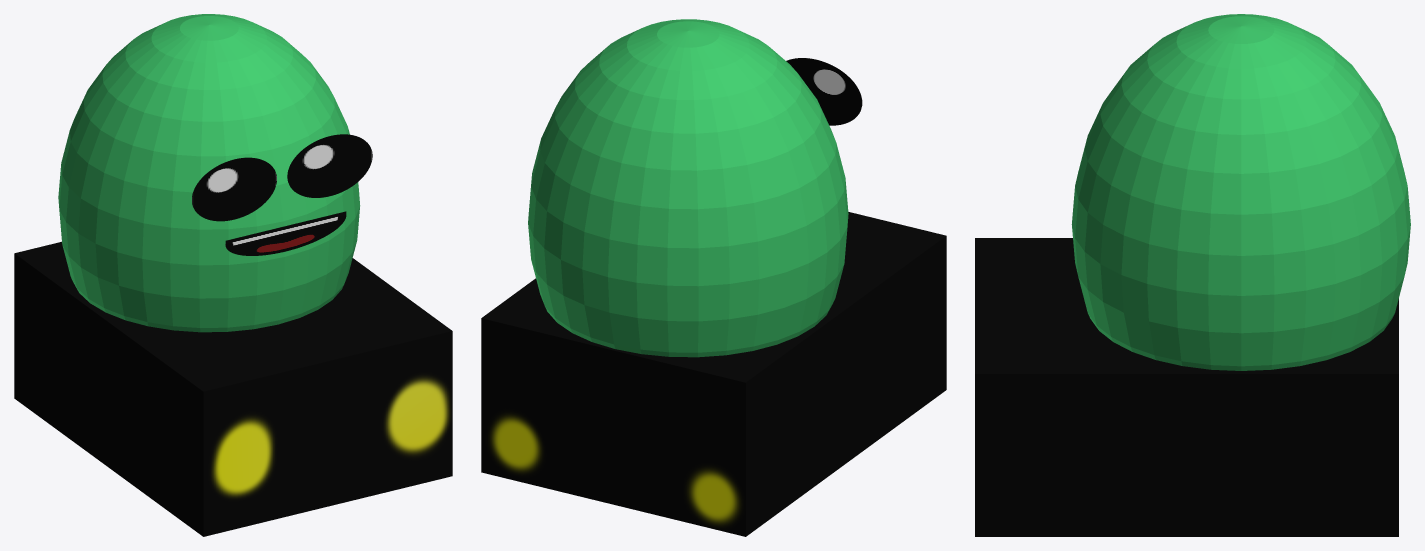
Rendered from Character_Base_Mesh_5.glb.
The picture shows the model from 3 angles, left to right: view 1: azimuth 30°, elevation 25°; view 2: azimuth 150°, elevation 25°; view 3: azimuth 270°, elevation 25°; orthographic projection. The views are drawn at different scales.
Parts seen in each view (by area): view 1: Car, Body, eyes, mun.001; view 2: Body, Car, eyes; view 3: Body, Car.
Part boxes in pixels (x1,y1,x2,y2): Car: [14, 241, 452, 536]; Body: [58, 14, 360, 332]; eyes: [192, 134, 372, 221]; mun.001: [225, 211, 346, 255]; Body: [528, 19, 848, 357]; Car: [481, 212, 946, 536]; eyes: [786, 58, 862, 125]; Body: [1071, 14, 1410, 370]; Car: [975, 238, 1398, 536].
Bounding box in the file's own units: 1.13 × 1.63 × 1.45.
4 materials, 3 textured.
